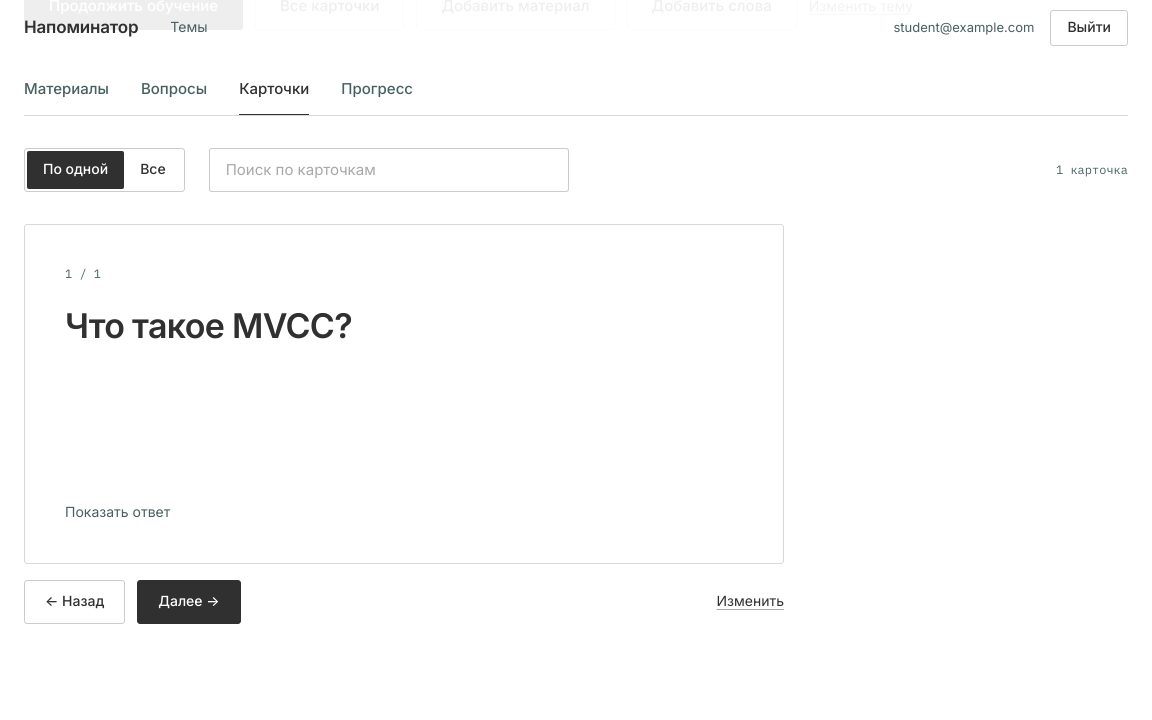
Test case: Экран карточек › показывает ошибку, если карточку не удалось удалить
The width and height of the screenshot is (1152, 720).
(page scrolled)
Expected: the text "Что такое MVCC?" is shown, x1=65 y1=306 x2=352 y2=347
Click the button "Изменить" at (750, 602), box x1=716 y1=580 x2=784 y2=624
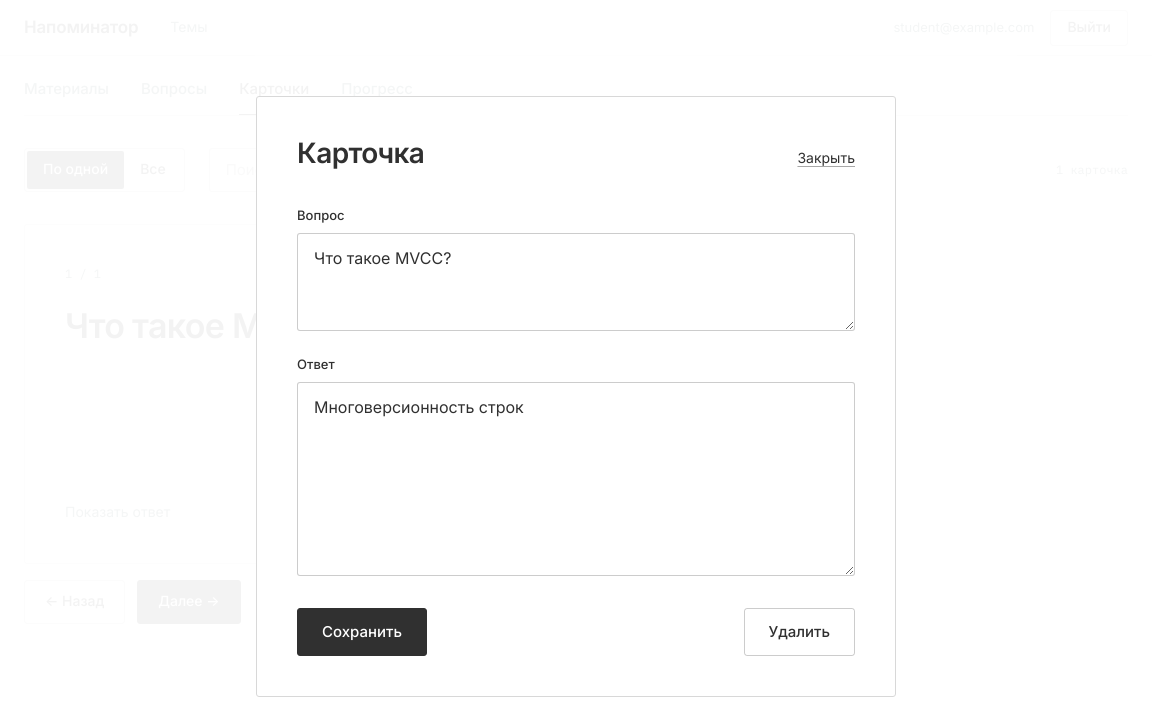
Click the button "Удалить" at (799, 632), box x1=744 y1=608 x2=855 y2=656
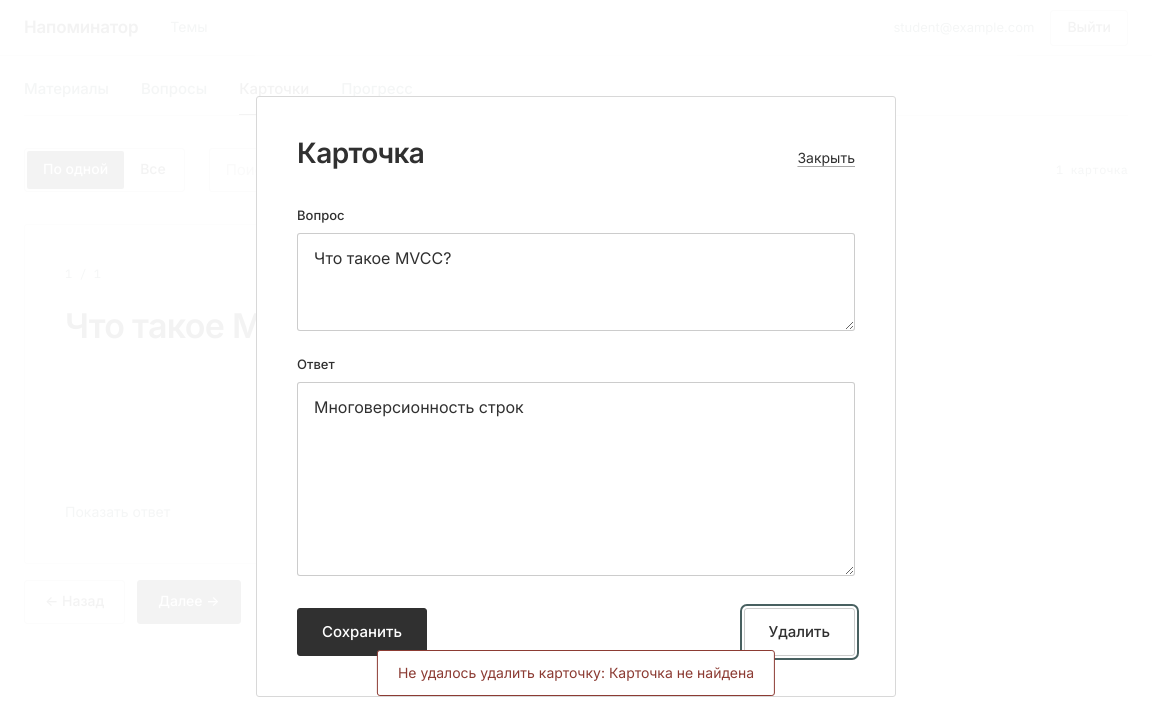
Now the message reads "Не удалось удалить карточку: Карточка не найдена", box x1=398 y1=664 x2=754 y2=681
